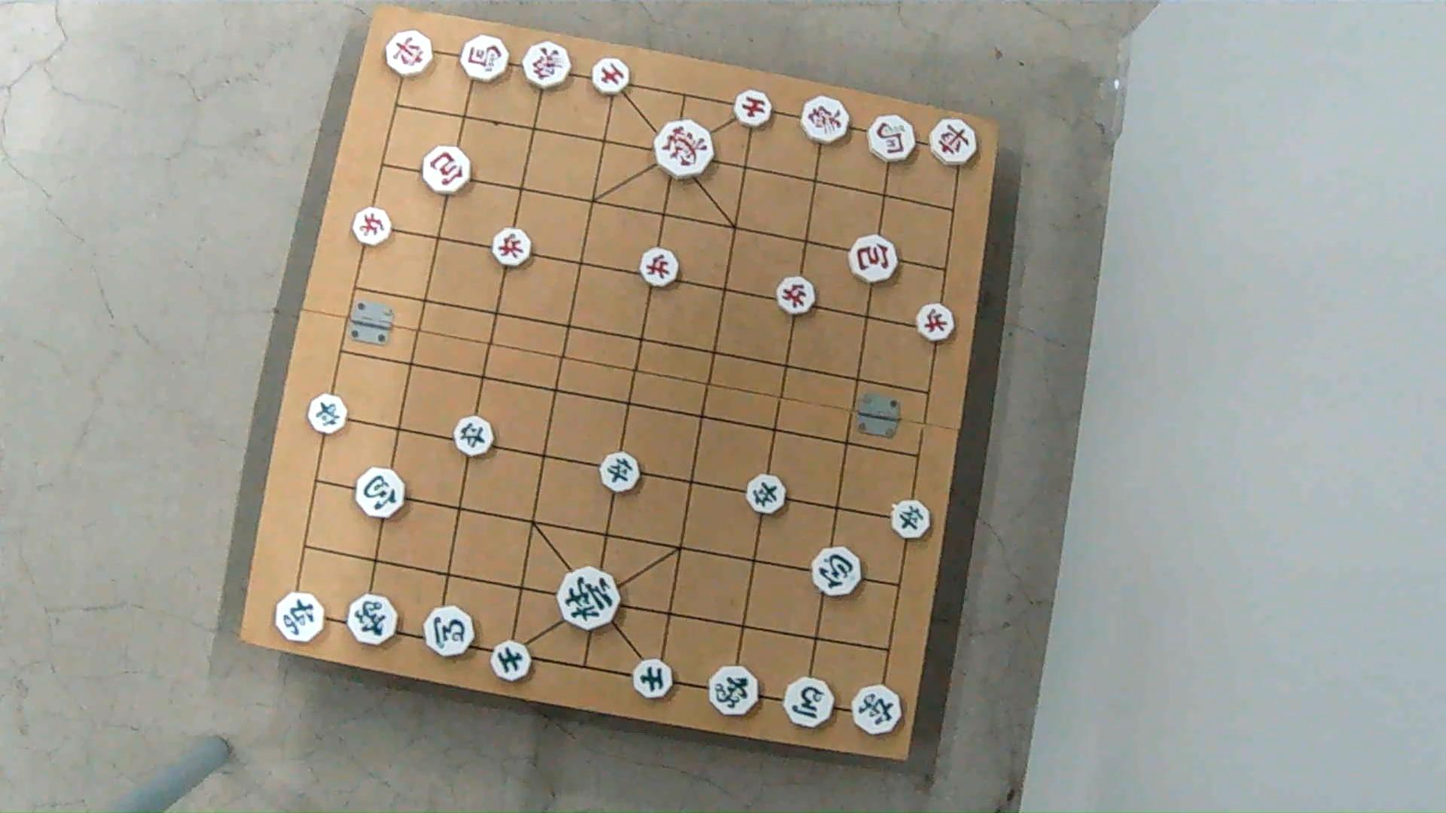cha_green: (851, 687, 905, 735), (274, 593, 325, 641)
cha_red: (929, 120, 979, 165), (381, 32, 433, 75)
jol_green: (599, 452, 643, 490), (747, 476, 790, 514), (453, 417, 496, 455), (307, 397, 349, 434), (890, 500, 932, 537)
jol_red: (638, 250, 679, 287), (355, 209, 397, 245), (488, 231, 530, 267), (917, 303, 957, 340), (778, 277, 819, 313)
ma_green: (423, 606, 477, 659), (783, 678, 834, 726)
ma_red: (867, 116, 917, 161), (460, 35, 511, 78)
po_green: (810, 550, 862, 597), (358, 470, 408, 518)
po_red: (851, 237, 901, 283), (419, 146, 468, 191)
sa_green: (490, 641, 532, 681), (633, 659, 674, 697)
sa_red: (732, 91, 773, 127), (591, 59, 632, 93)
sang_green: (706, 663, 761, 717), (349, 592, 398, 645)
sang_red: (798, 98, 849, 143), (523, 44, 572, 90)
wang_green: (560, 570, 623, 629)
wang_red: (655, 121, 717, 177)
